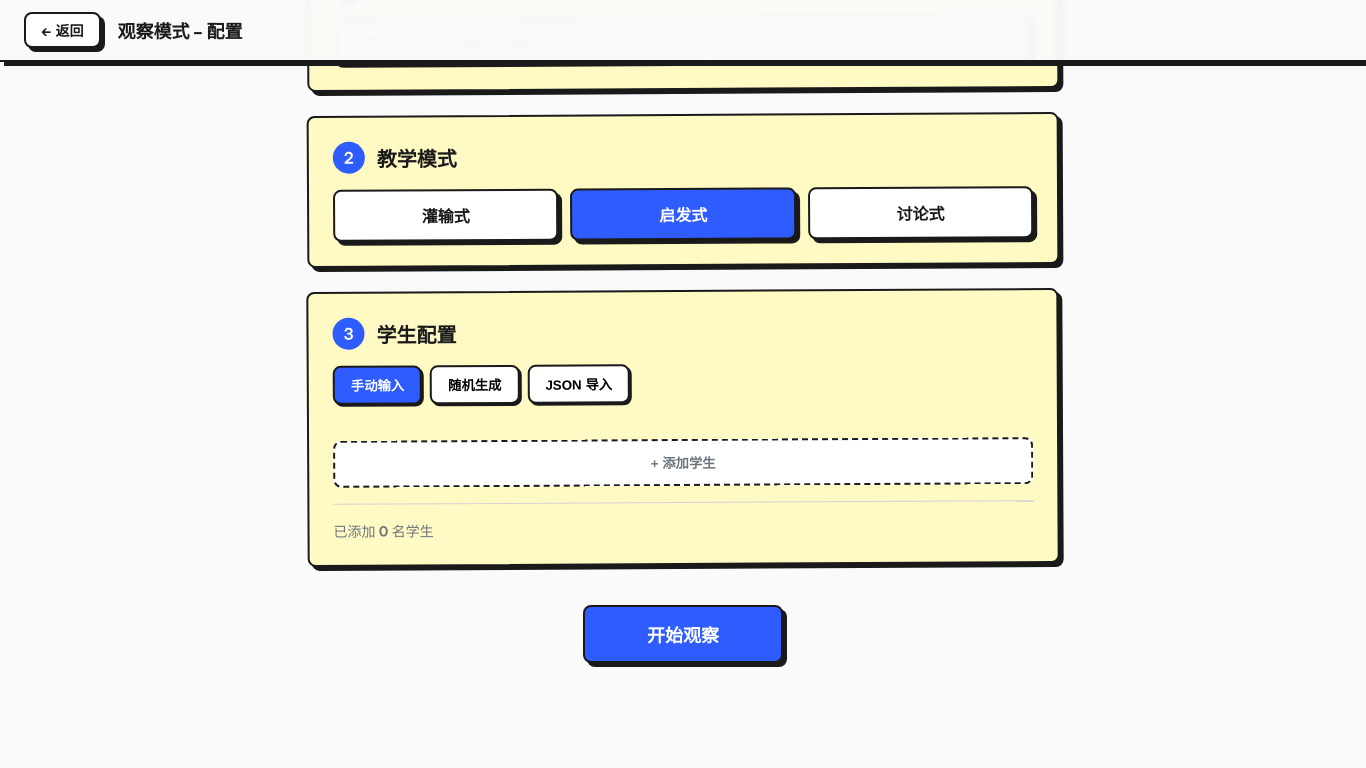
Test: ObservationConfig › JSON import › shows error when importing invalid JSON
The width and height of the screenshot is (1366, 768).
(page scrolled)
Click the button "JSON 导入" at coordinates (579, 384), box [527, 364, 630, 404]
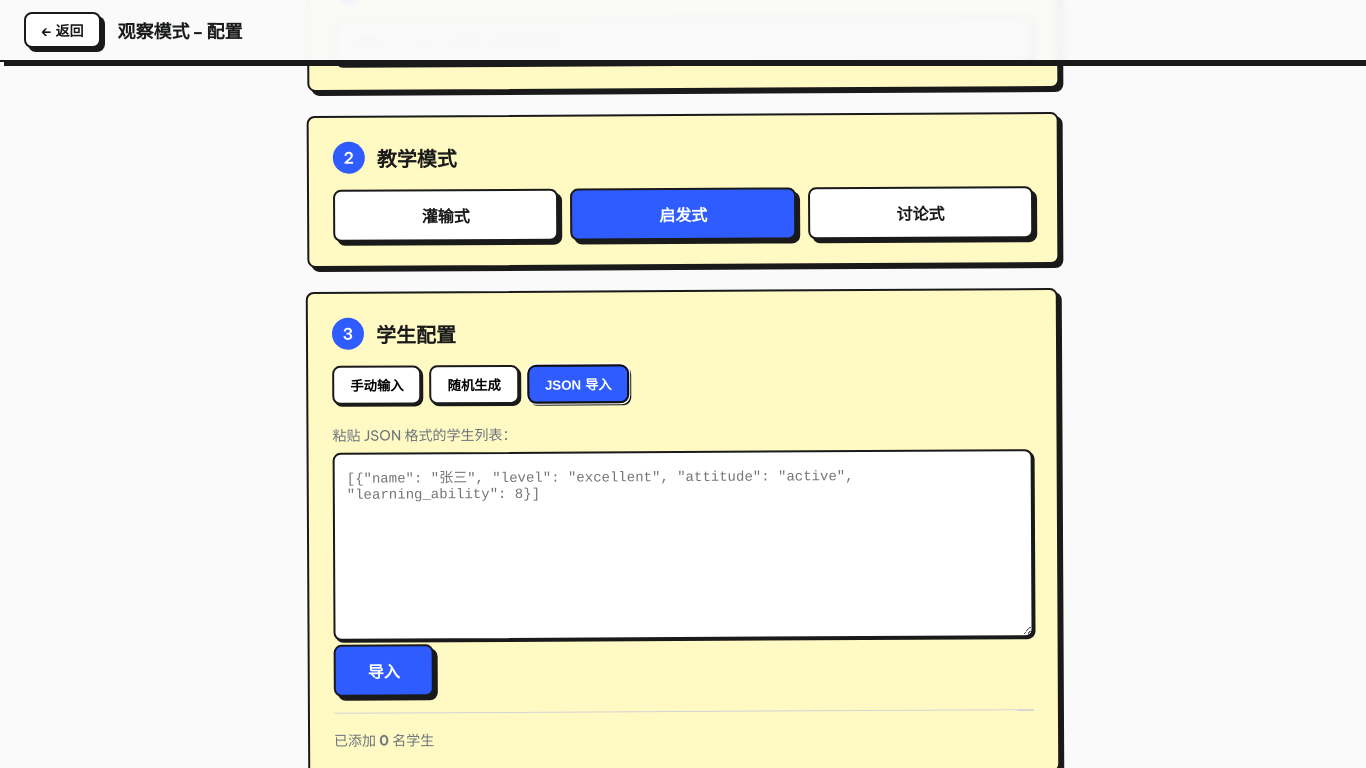
Replace the text in the text box with class "json-textarea" with "invalid json" at coordinates (683, 545), box [333, 449, 1034, 641]
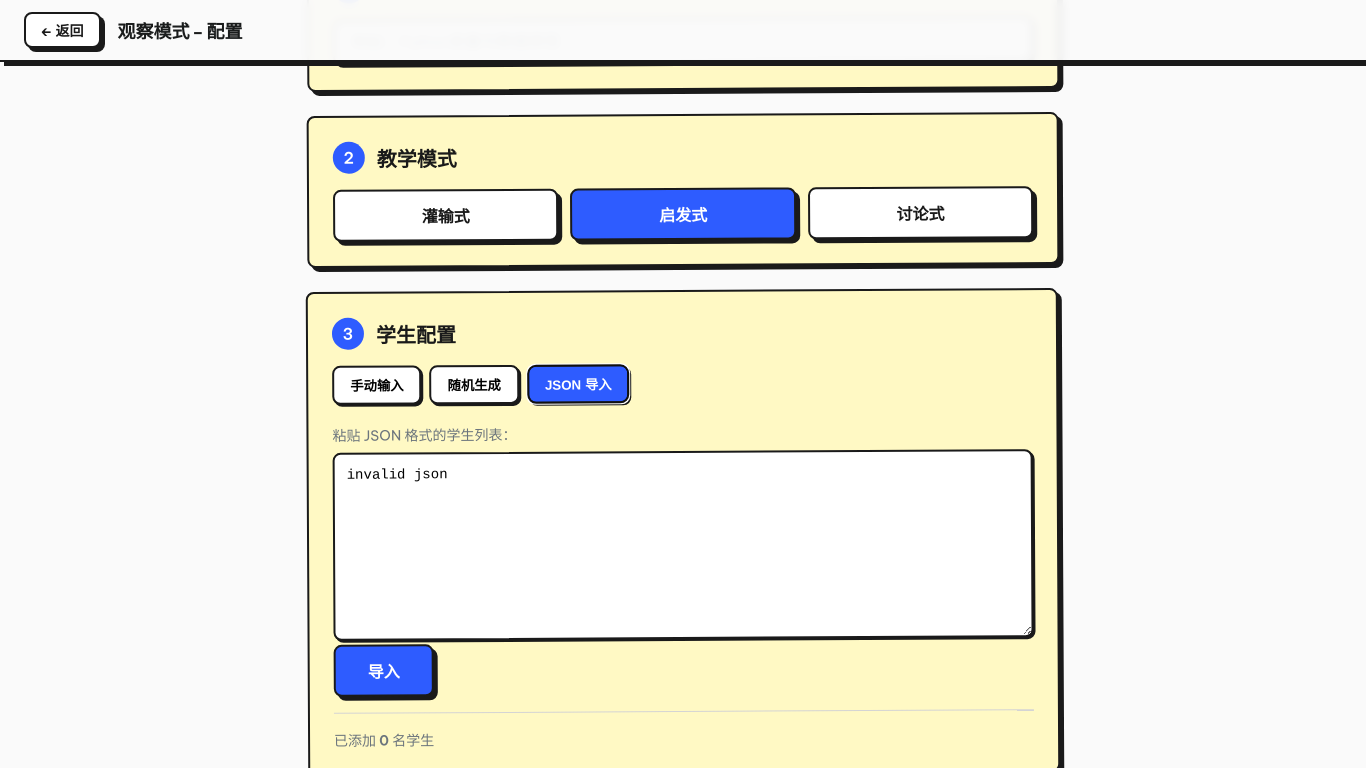
Click the button "导入" at coordinates (384, 671), box [334, 644, 434, 697]
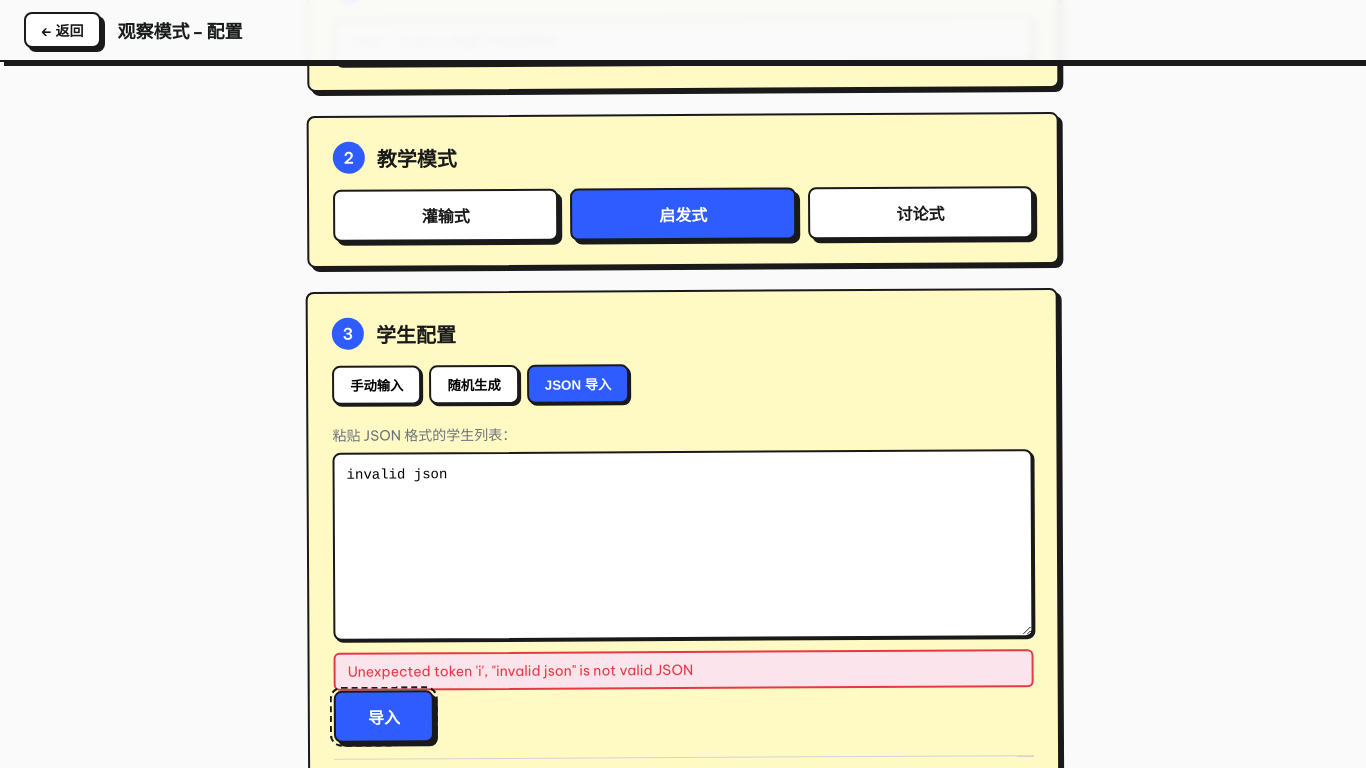
Result: the text with class "json-error" is shown at [334, 649, 1034, 691]
Result: the text with class "json-error" shows "json" at [348, 661, 693, 681]
